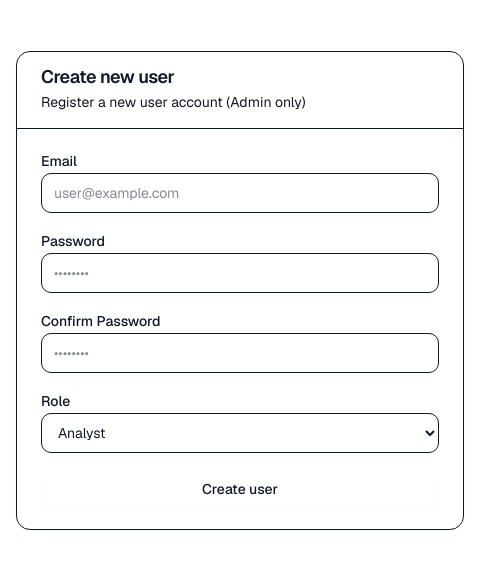
Scenario: RegisterPage › should handle registration error from server
Type "new-user@example.com" into the field labelled "Email" at (240, 192), box [41,172,439,212]
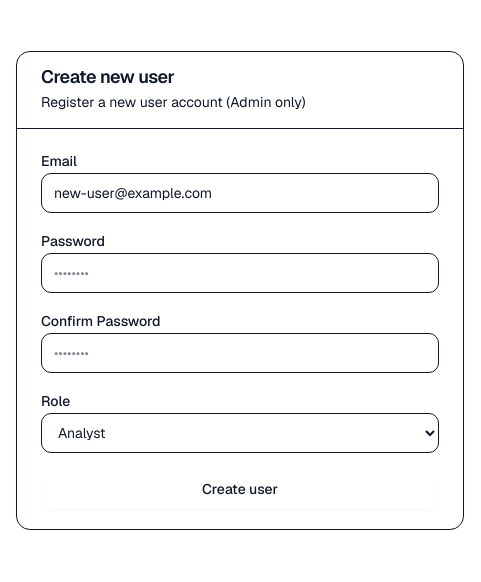
Type "password123" into the password field labelled "Password" at (240, 272), box [41,252,439,292]
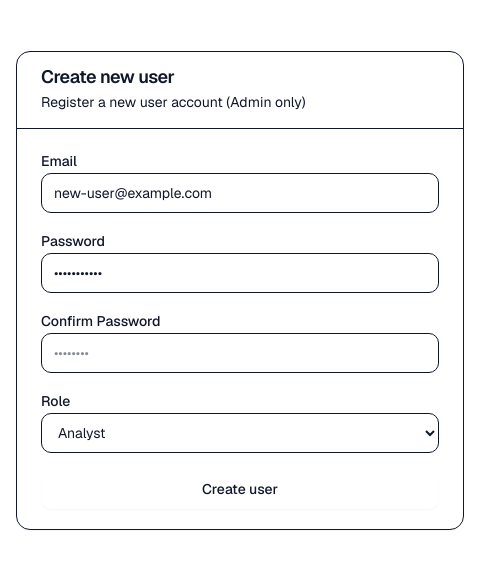
Type "password123" into the password field labelled "Confirm Password" at (240, 352), box [41,332,439,372]
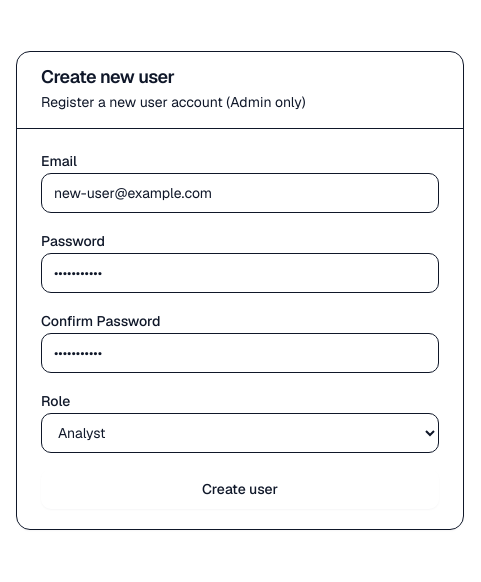
Submit the form from the button "Create user", box [41,468,439,508]
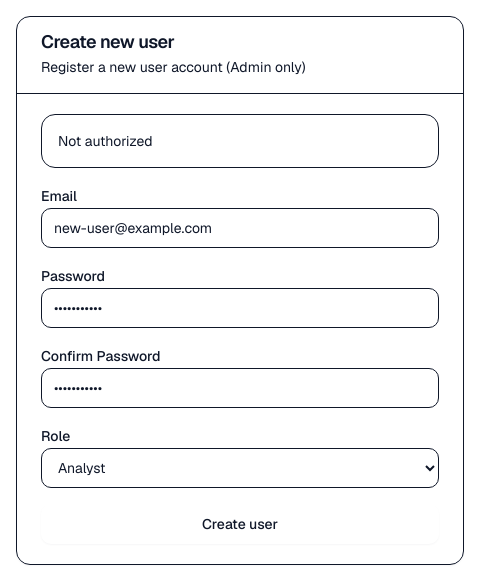
Expected: the text "Not authorized" is shown, [58,132,152,150]
